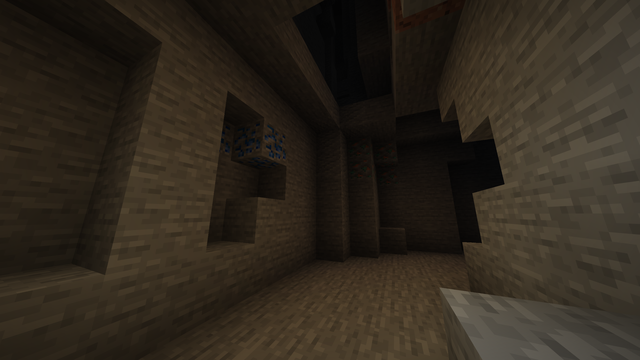copper: (345, 137, 399, 185)
lapis: (219, 108, 288, 165)
